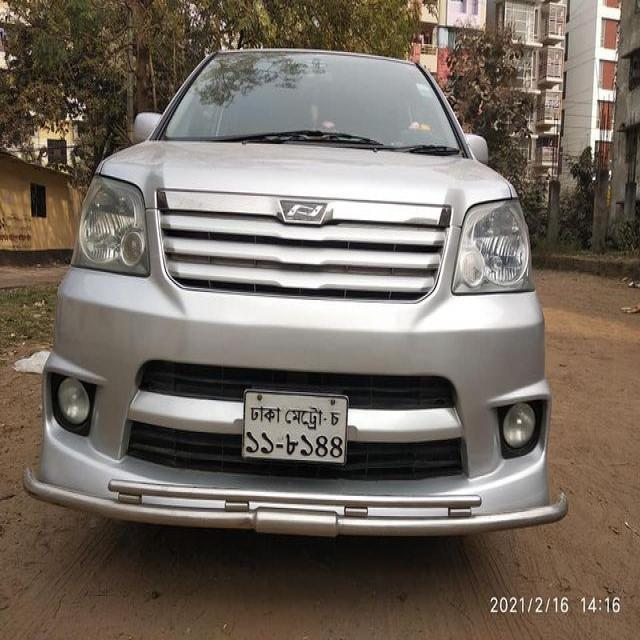numberplate: (240, 388, 348, 465)
